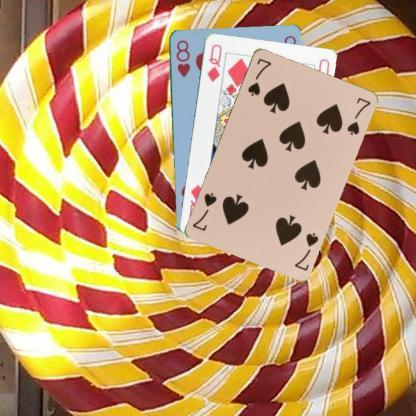7s: (244, 56, 273, 98), (291, 230, 320, 272)
8h: (172, 38, 192, 78)
Qd: (205, 41, 223, 83)
